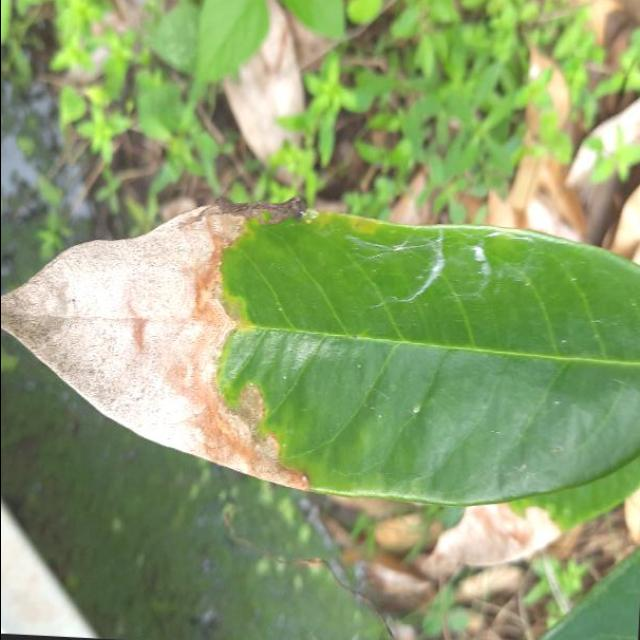Leaf Blight: (0, 172, 640, 522)
